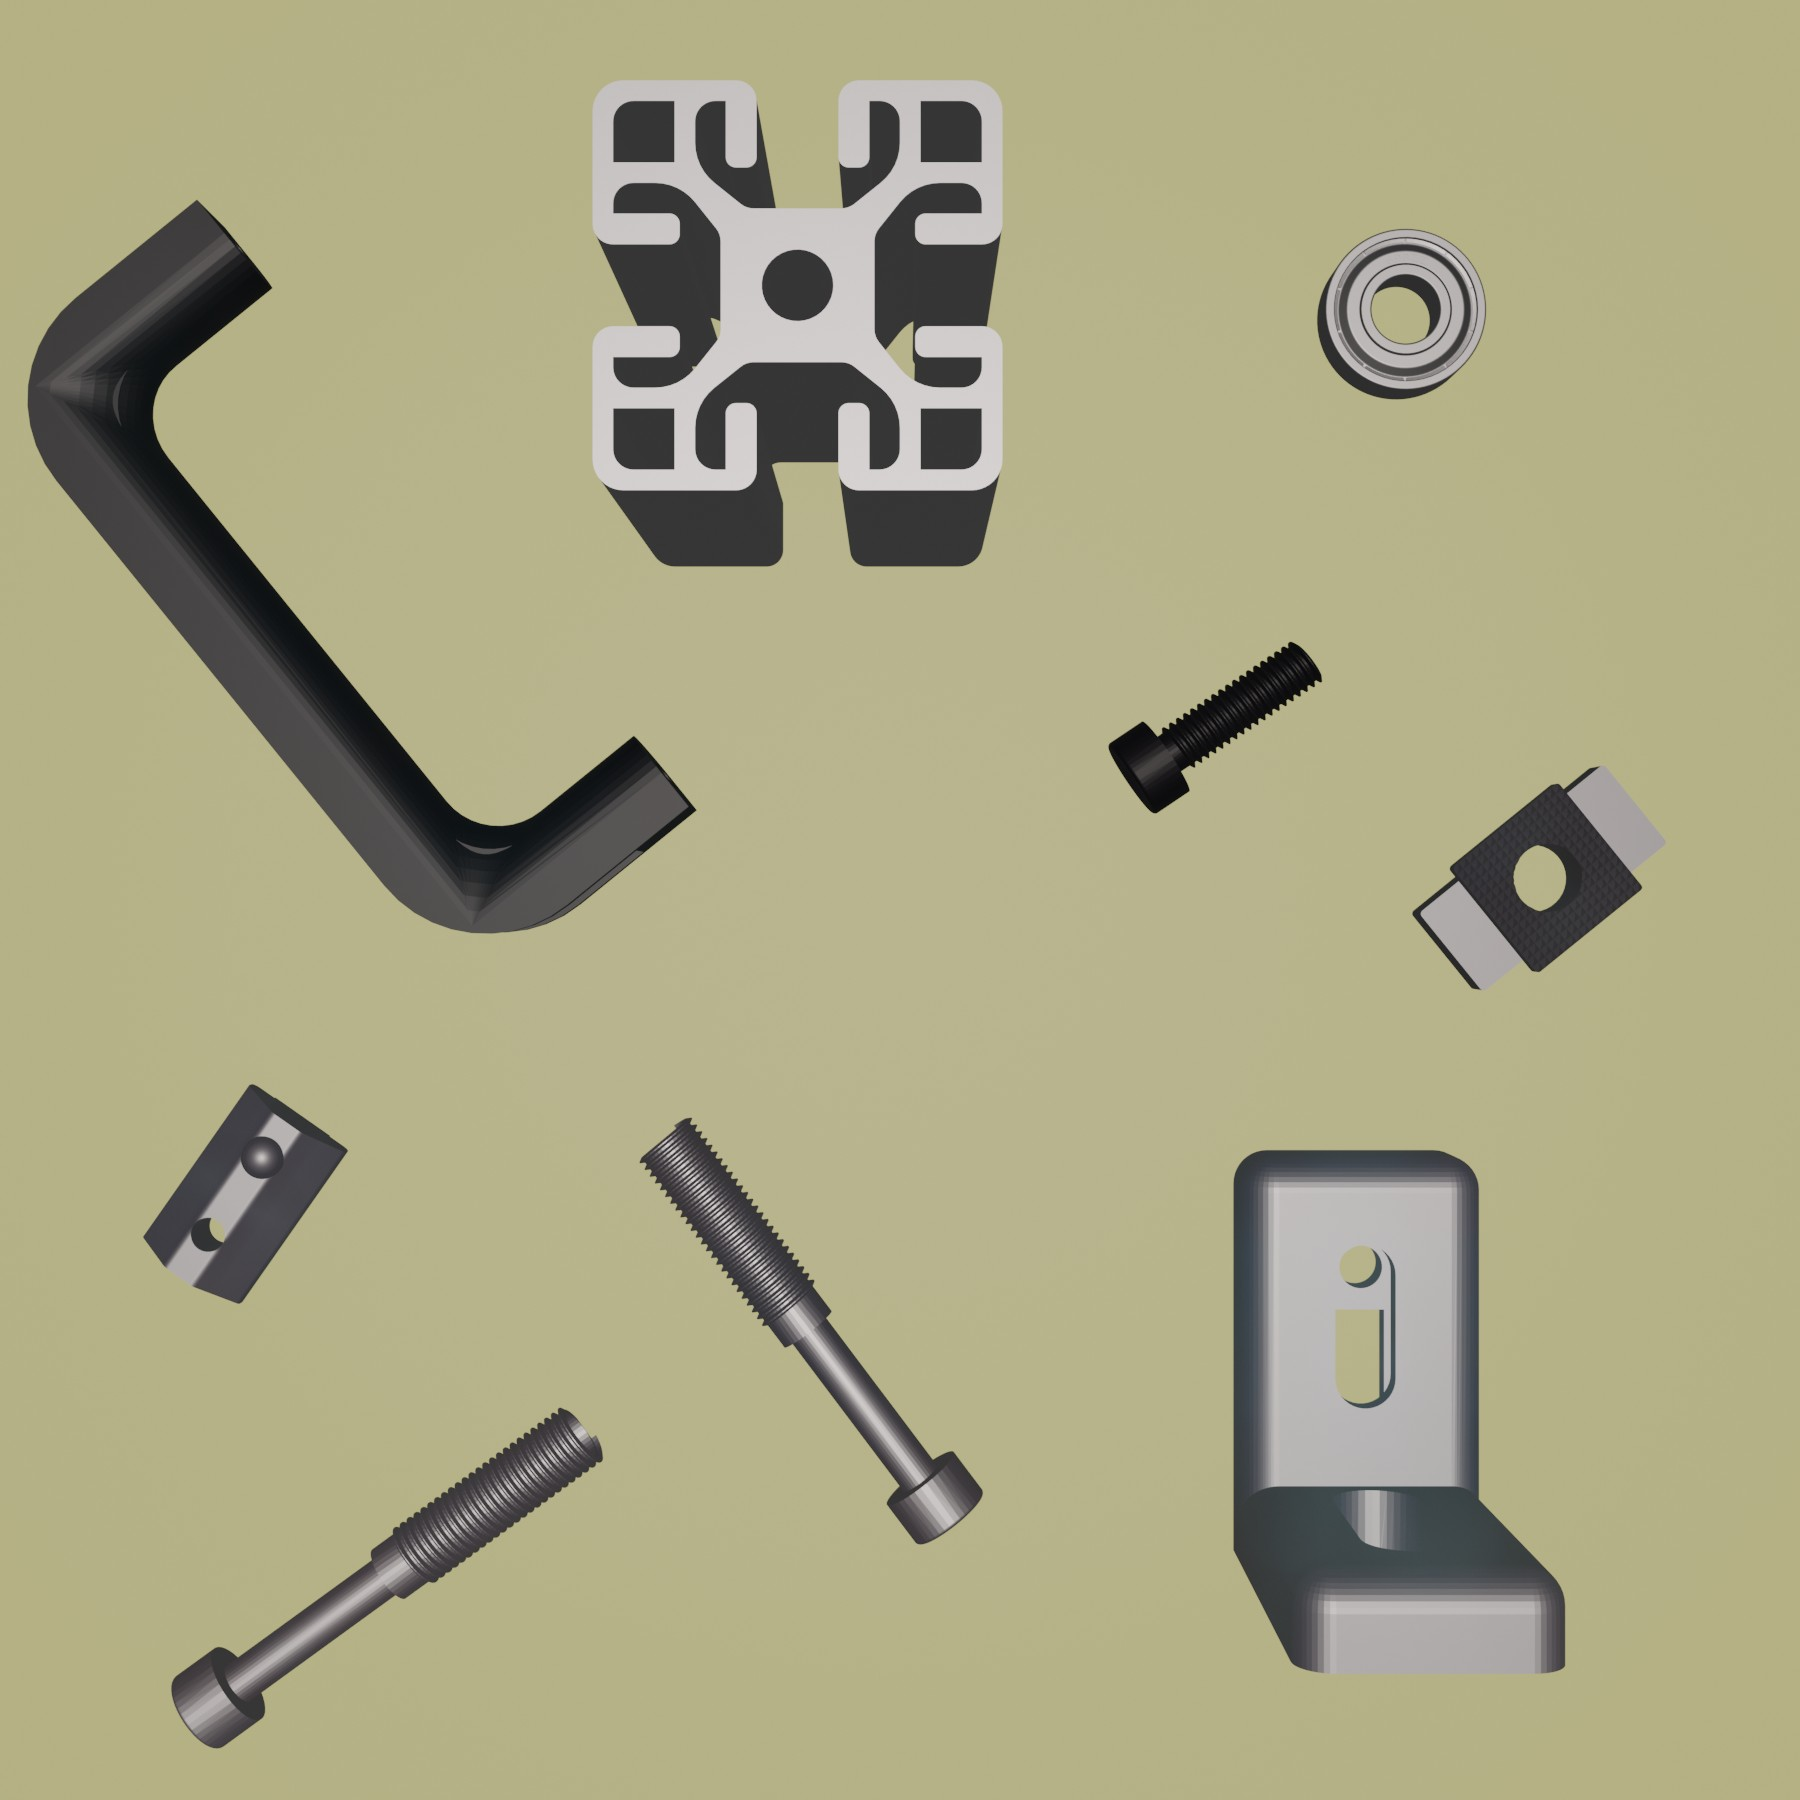Aluminium Extension: (588, 73, 1009, 569)
Ball Bearing: (1312, 223, 1490, 404)
Multiwinkel: (1228, 1146, 1571, 1676)
Pull Handle: (25, 198, 697, 935)
Shoulder Socket Head Cap Screw: (633, 1113, 986, 1548), (170, 1404, 607, 1752)
Socket Head Cap Screw: (1108, 635, 1327, 814)
T Nut Square: (1409, 762, 1675, 996)
T Spring Nut: (140, 1080, 349, 1307)
